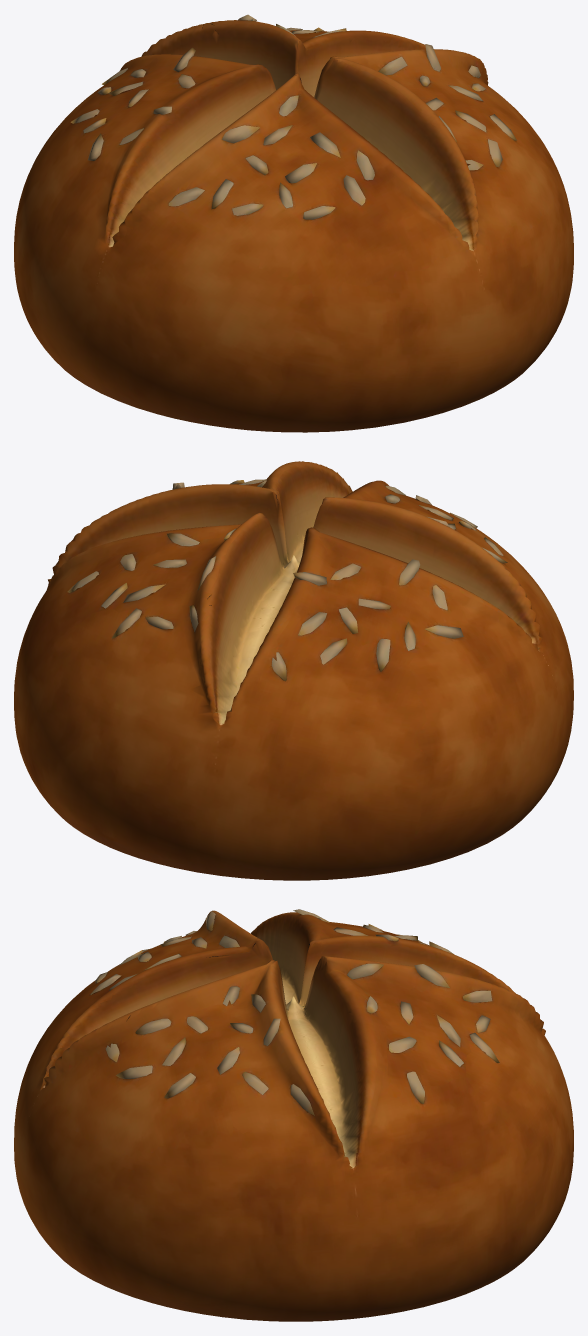
The model's file is campagne--sunflowerseed-seed.glb.
3 renders of one model, top to bottom at view 1: azimuth 30°, elevation 25°; view 2: azimuth 150°, elevation 25°; view 3: azimuth 270°, elevation 25°, orthographic.
Visible parts, largest first — view 1: campagne_sunflowerseed-seed; view 2: campagne_sunflowerseed-seed; view 3: campagne_sunflowerseed-seed.
Boxes of the visible parts, bbox=[...] form: campagne_sunflowerseed-seed: bbox=[14, 14, 573, 432]; campagne_sunflowerseed-seed: bbox=[14, 461, 573, 880]; campagne_sunflowerseed-seed: bbox=[14, 909, 573, 1321].
Size of the model in its own units: 0.9987 by 0.5303 by 0.9991.
Materials: 1 (1 with a texture image).
